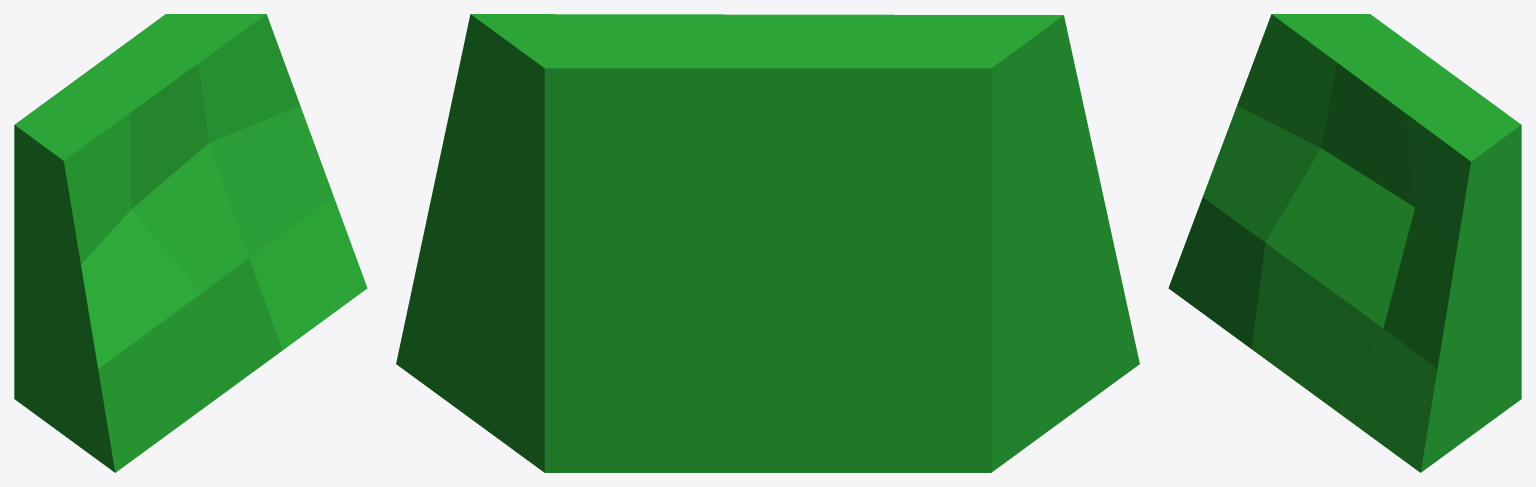
File: cliff-small_corner.glb
3 renders of one model, left to right at view 1: azimuth 30°, elevation 25°; view 2: azimuth 150°, elevation 25°; view 3: azimuth 270°, elevation 25°, orthographic. The views are drawn at different scales.
Visible parts, largest first — view 1: cliff-small_corner; view 2: cliff-small_corner; view 3: cliff-small_corner.
Part boxes in pixels (bbox=[...]): cliff-small_corner: bbox=[14, 14, 367, 472]; cliff-small_corner: bbox=[396, 14, 1139, 472]; cliff-small_corner: bbox=[1168, 14, 1521, 472].
Size of the model in its own units: 0.7217 by 0.5 by 0.5833.
